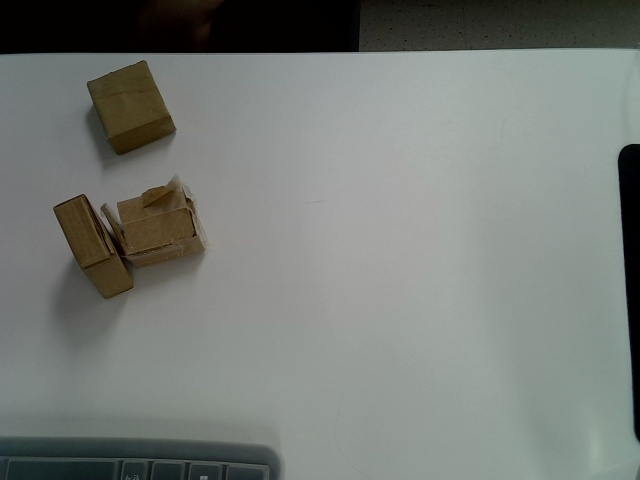defect: (100, 175, 208, 269)
normal: (86, 60, 177, 155), (53, 194, 133, 300)
